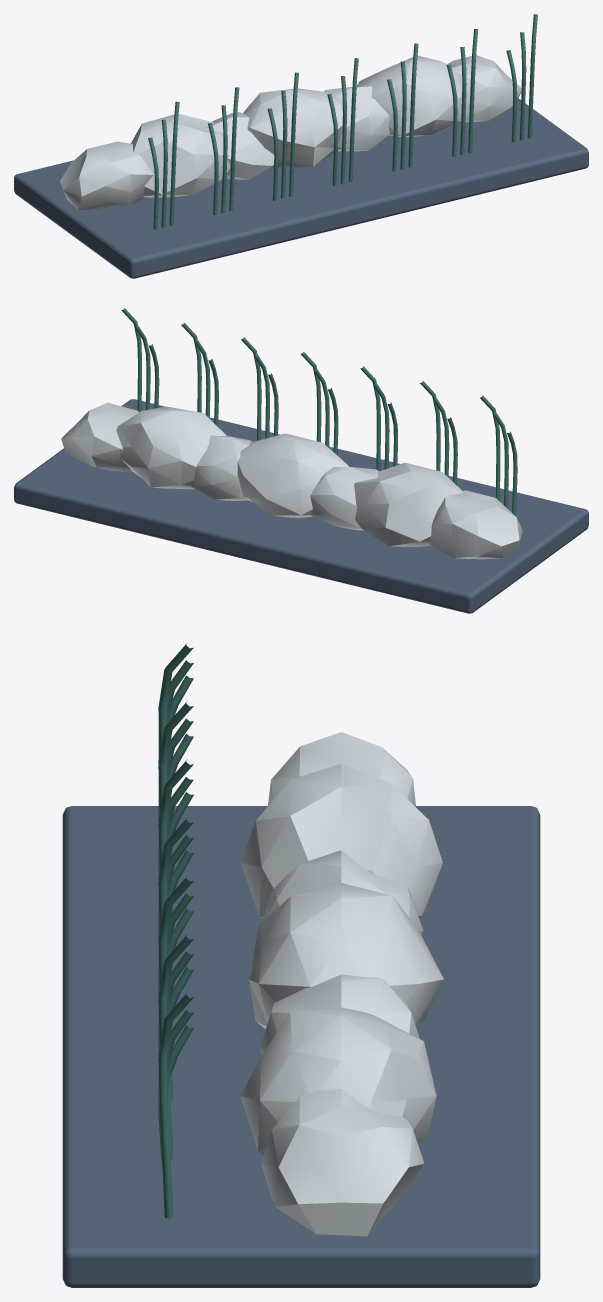
Rendered from moonsteel-convergence-reed-riverbank-fe63218e__18184.glb.
The picture shows the model from 3 angles, top to bottom: view 1: azimuth 30°, elevation 25°; view 2: azimuth 150°, elevation 25°; view 3: azimuth 270°, elevation 25°; orthographic projection. The views are drawn at different scales.
Visible parts, largest first — view 1: reed-riverbank; view 2: reed-riverbank; view 3: reed-riverbank.
Boxes of the visible parts, x1,y1,x2,y2 form: reed-riverbank: [14, 14, 588, 278]; reed-riverbank: [14, 308, 588, 613]; reed-riverbank: [62, 643, 540, 1287].
Size of the model in its own units: 4 by 1.15 by 1.8.
